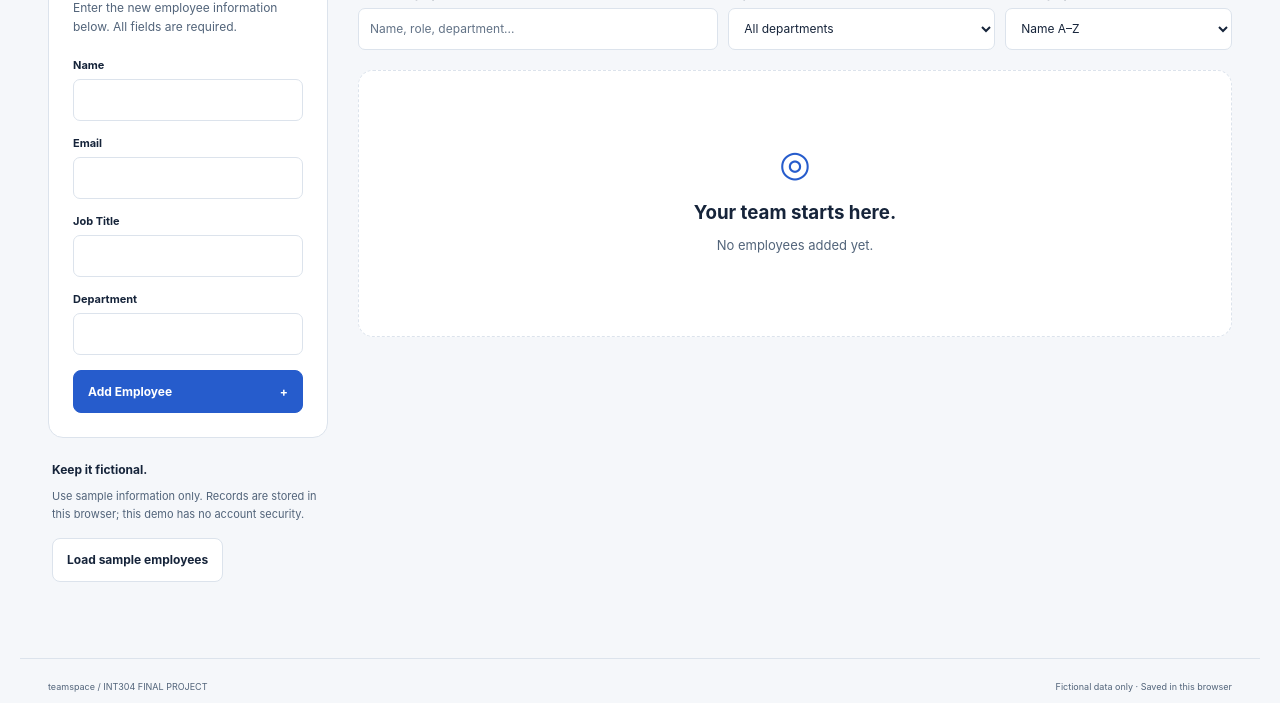
Test case: retains directory filters when navigating between views
(page scrolled)
Click the button "Load sample employees": click(138, 560) [52,538,223,582]
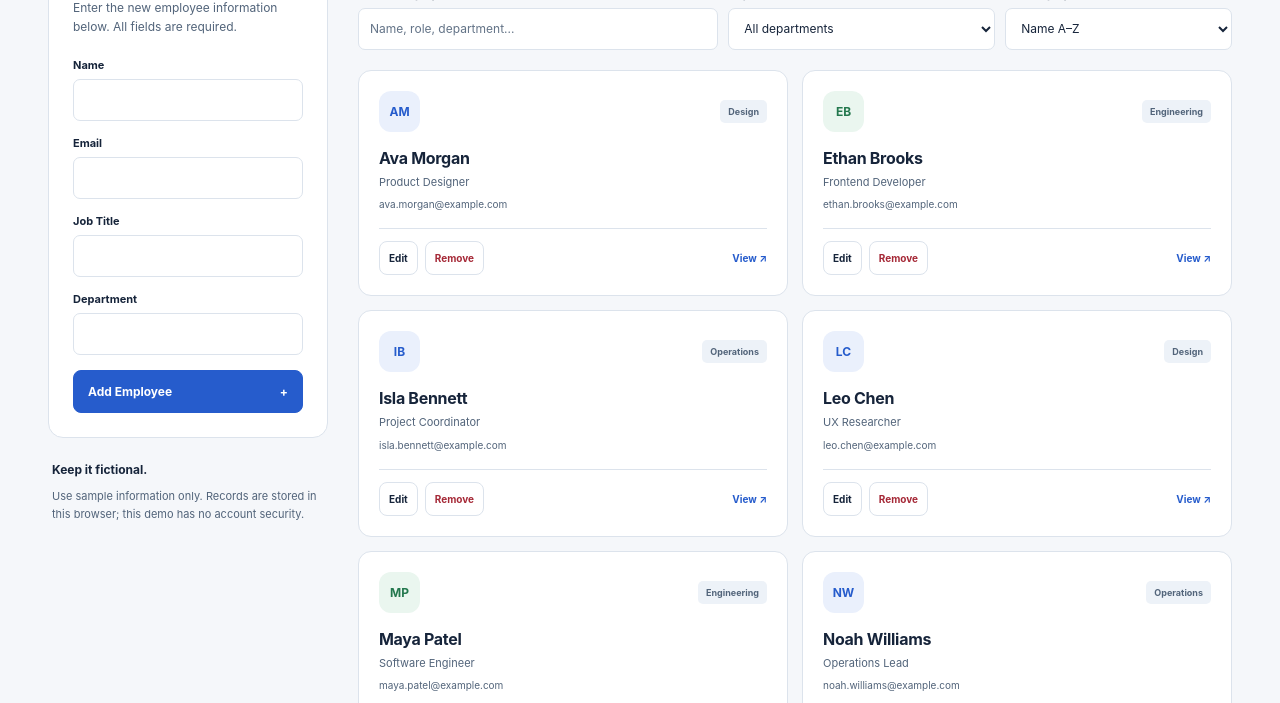
In the search field labelled "Search employees": (538, 29) [358,8,718,50], type "Ava"
(page scrolled)
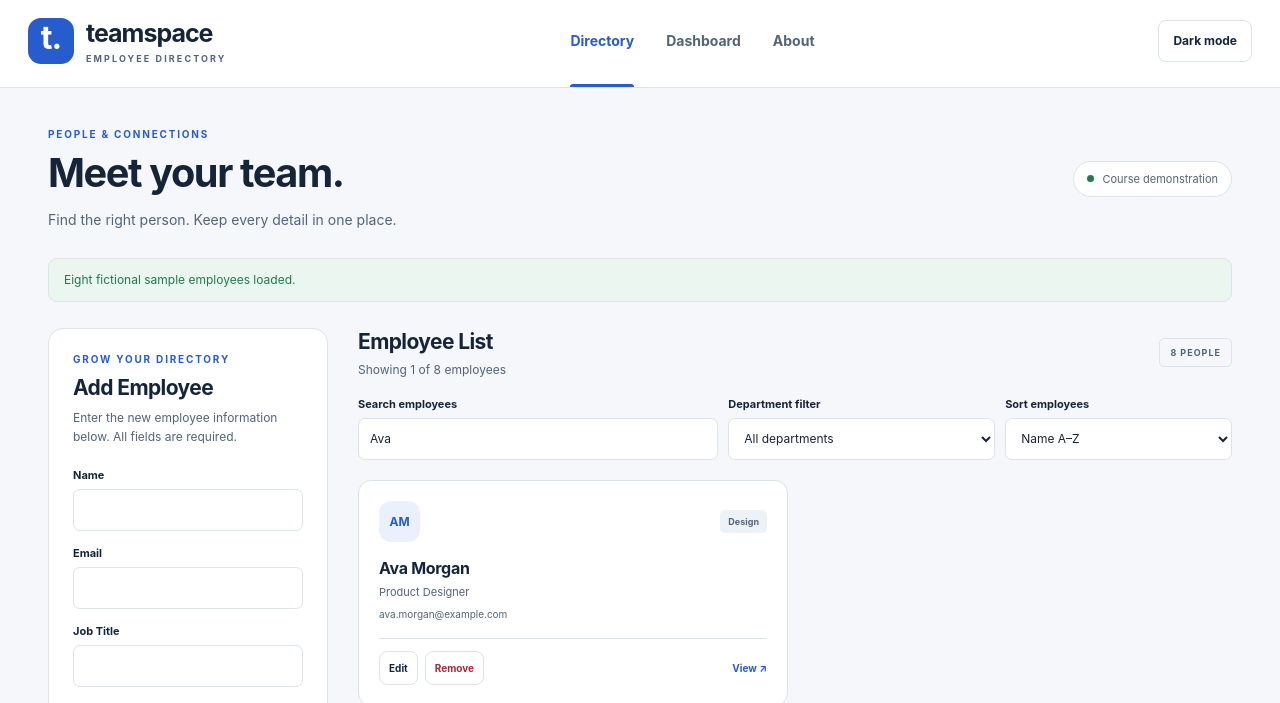
Click the link "Dashboard": click(703, 40) [666,32,741,49]
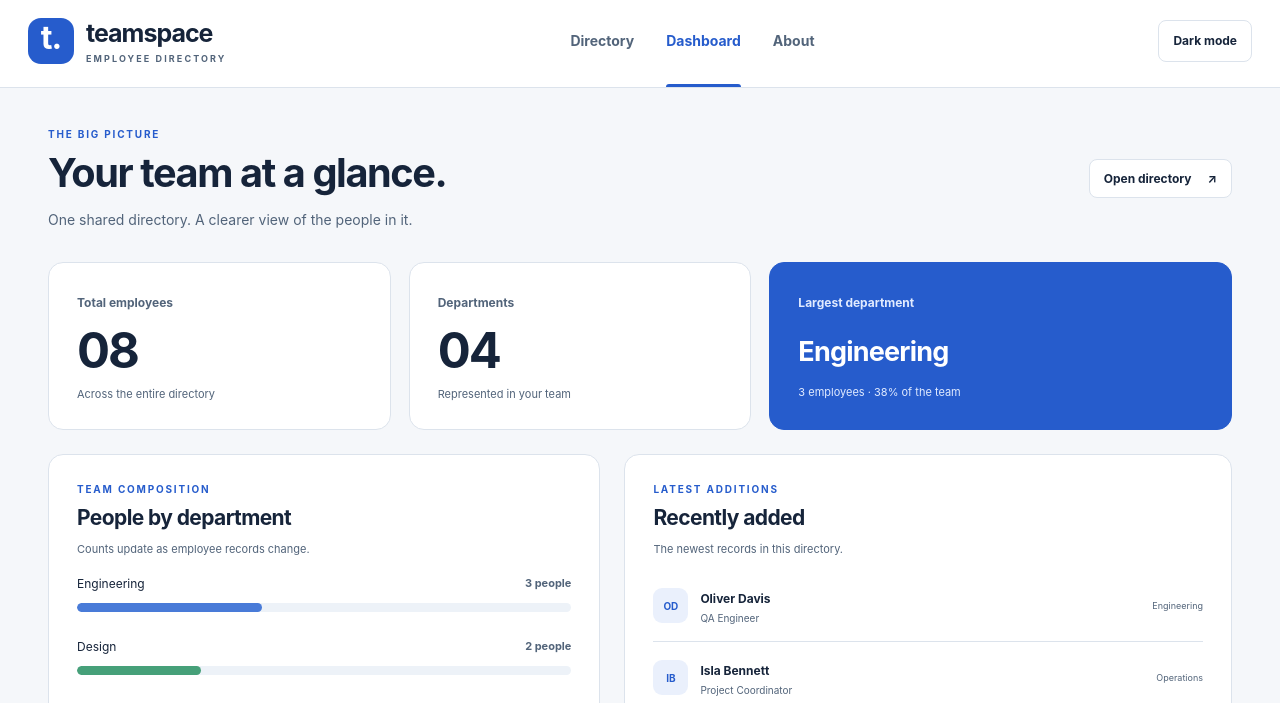
Expected: the text "08" is shown, [77,321,138,380]
Click the link "Directory": click(602, 40) [570,32,634,49]
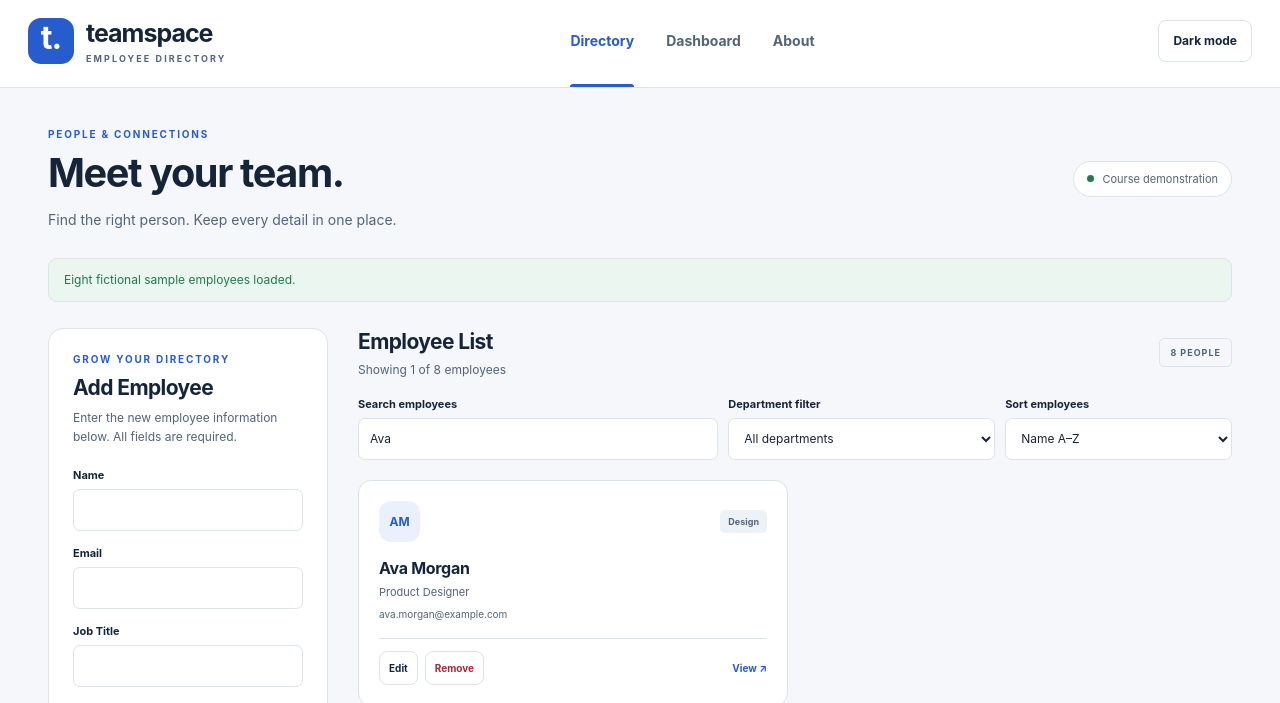
Expected: the search field labelled "Search employees" holds "Ava", [358,418,718,460]
Expected: the text "Showing 1 of 8 employees" is shown, [358,362,506,377]
